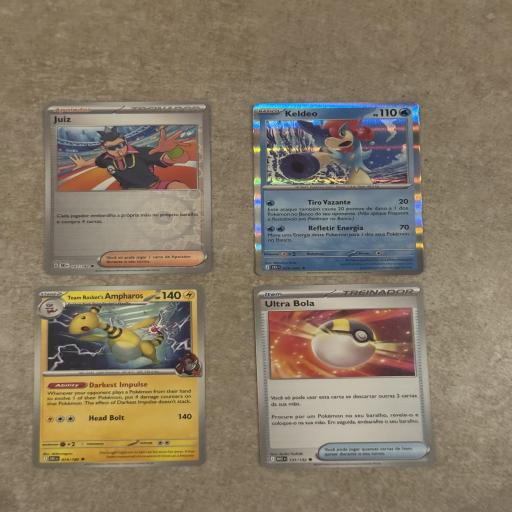card: (254, 281, 437, 472), (31, 284, 206, 469), (253, 102, 424, 277), (43, 101, 213, 276)
